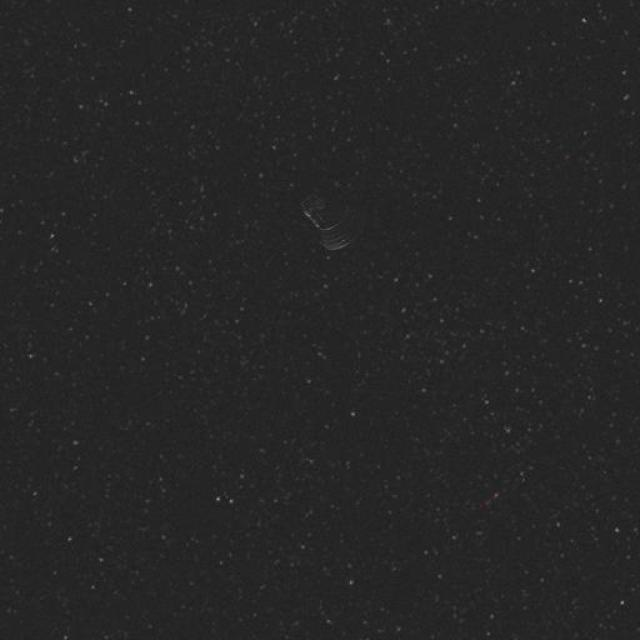debris: (274, 160, 374, 260)
